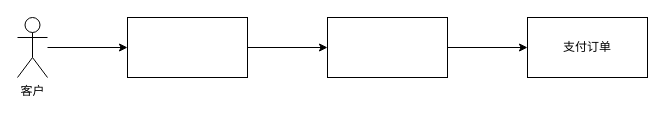
Some shapes in this 665 by 116 pixel diagram are drawn without their labels. Here are the shapes that lost their labels. From the top down, the centre of each, then its label:
At point 187,47: "浏览商品详情".
At point 387,47: "下订单".
